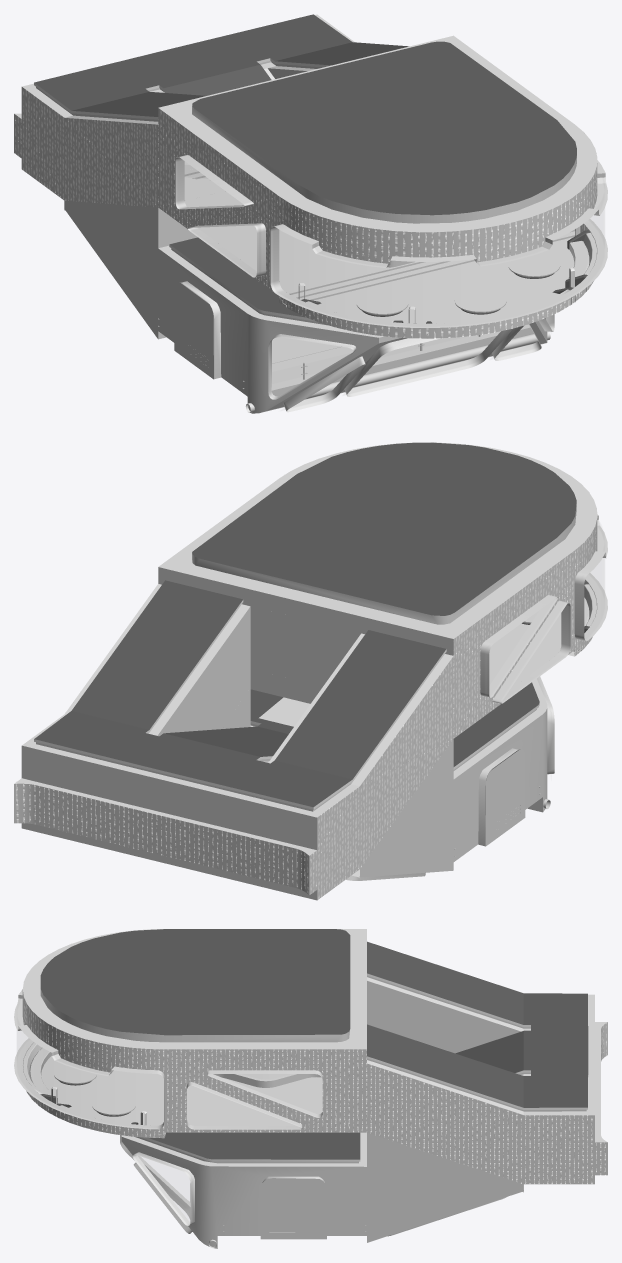
3 renders of one model, top to bottom at view 1: azimuth 30°, elevation 25°; view 2: azimuth 150°, elevation 25°; view 3: azimuth 270°, elevation 25°, orthographic. The views are drawn at different scales.
Visible parts, largest first — view 1: Base, Couches, Table.002, Table.001, Table, Stairs; view 2: Base; view 3: Base, Couches, Design_Part, Window_01, Table, Table.001.
Part boxes in pixels (left/top/right/bottom): Base: left=14, top=14, right=607, bottom=413; Couches: left=301, top=230, right=596, bottom=323; Table.002: left=356, top=292, right=408, bottom=316; Table.001: left=454, top=290, right=506, bottom=314; Table: left=508, top=254, right=560, bottom=278; Stairs: left=64, top=169, right=224, bottom=210; Base: left=14, top=442, right=607, bottom=900; Base: left=14, top=929, right=607, bottom=1248; Couches: left=23, top=1042, right=138, bottom=1124; Design_Part: left=213, top=1074, right=321, bottom=1087; Window_01: left=142, top=1157, right=189, bottom=1221; Table: left=92, top=1096, right=135, bottom=1116; Table.001: left=54, top=1065, right=96, bottom=1085.
Size of what is drawn, in the model's own units: 21.24 by 16 by 41.7.
4 materials, 2 textured.
